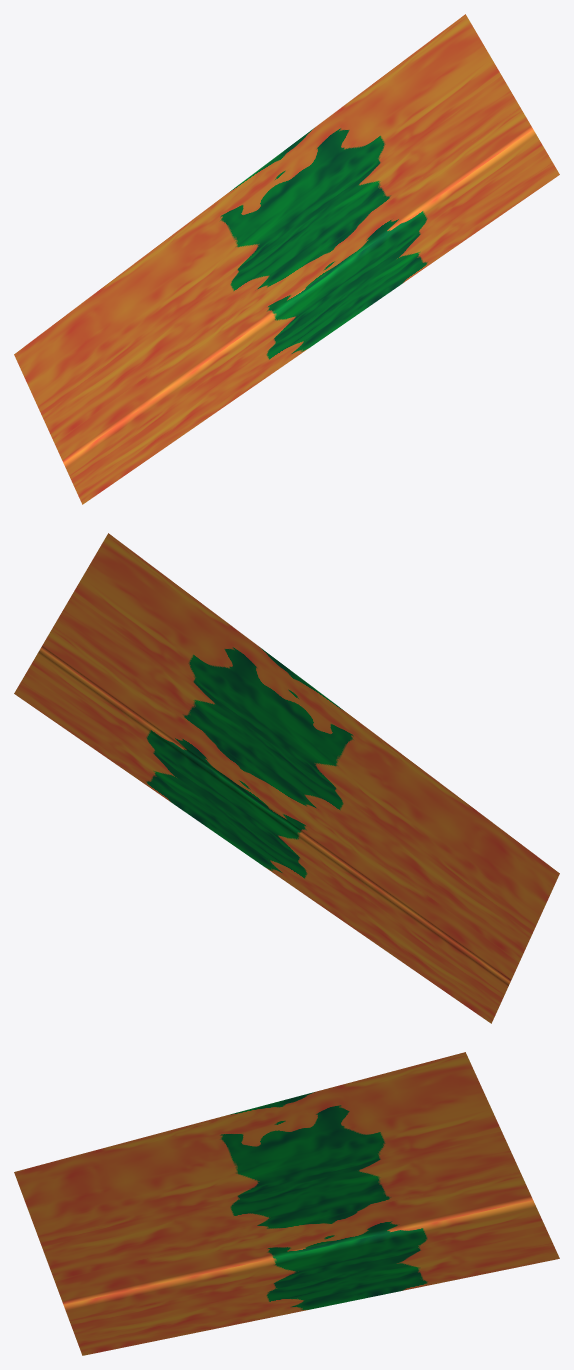
Rendered from p_trashbot_end_sprinkler05_pose0.fbx.
The picture shows the model from 3 angles, top to bottom: view 1: azimuth 30°, elevation 25°; view 2: azimuth 150°, elevation 25°; view 3: azimuth 330°, elevation 25°; orthographic projection.
Parts seen in each view (by area): view 1: p_sprinkler_end_plane_05_pose0; view 2: p_sprinkler_end_plane_05_pose0; view 3: p_sprinkler_end_plane_05_pose0.
Part boxes in pixels (x1,y1,x2,y2): p_sprinkler_end_plane_05_pose0: [14, 14, 559, 504]; p_sprinkler_end_plane_05_pose0: [14, 533, 559, 1023]; p_sprinkler_end_plane_05_pose0: [14, 1052, 559, 1355].
Size of the model in its own units: 25.15 by 17.5 by 1.48e-06.
